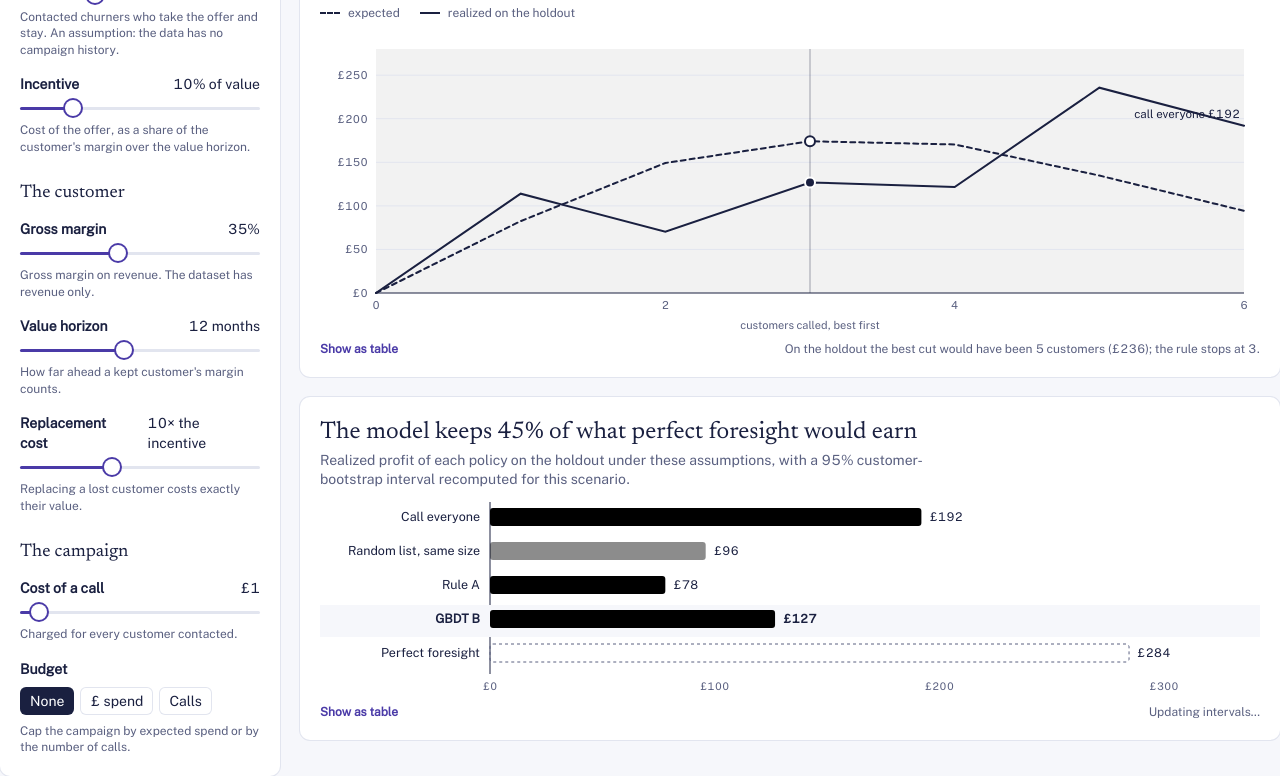
it: typing a budget keeps what was typed and settles out-of-range values on leaving the field
(page scrolled)
Click the radio button labelled "£ spend". click: {"x": 117, "y": 701}
box: [80,687,153,715]
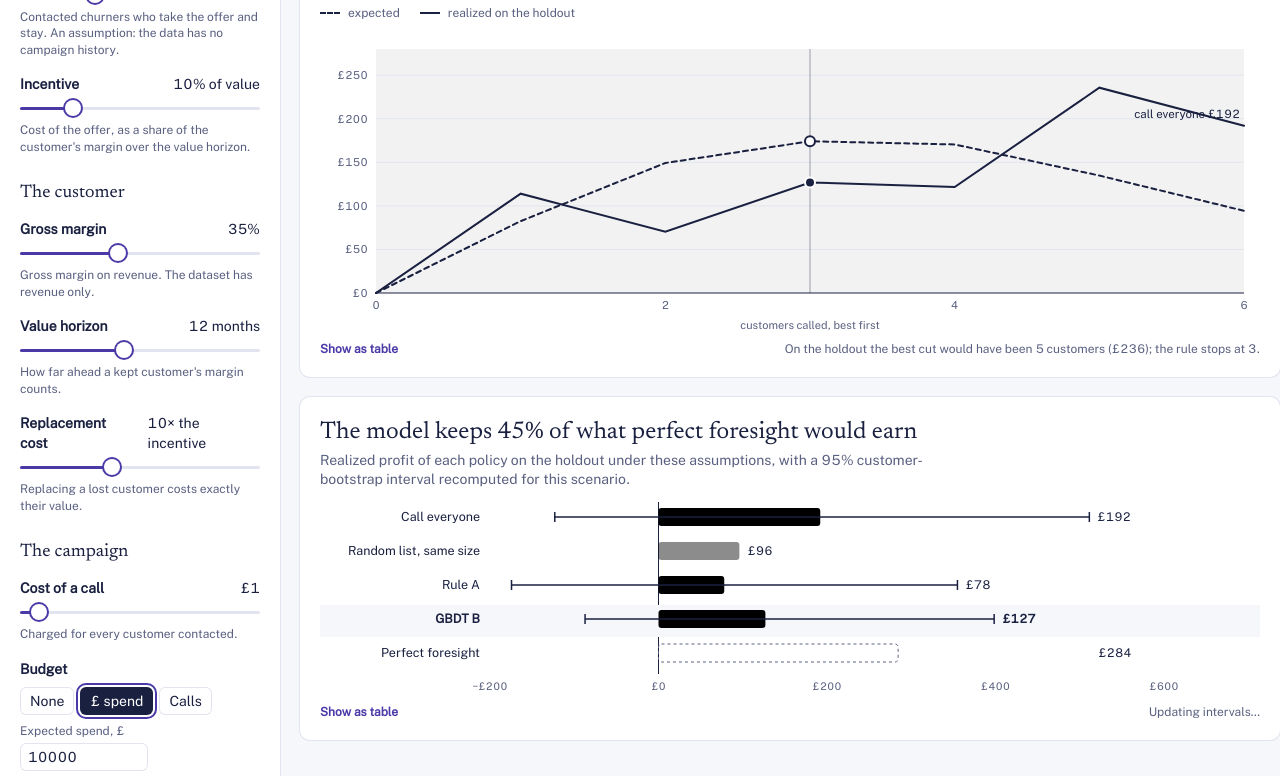
Replace the text in the number field labelled "Expected spend, £" with "2000". click: {"x": 84, "y": 757}
box: [20,743,148,771]
Replace the text in the number field labelled "Expected spend, £" with "50". click: {"x": 84, "y": 757}
box: [20,743,148,771]
(page scrolled)
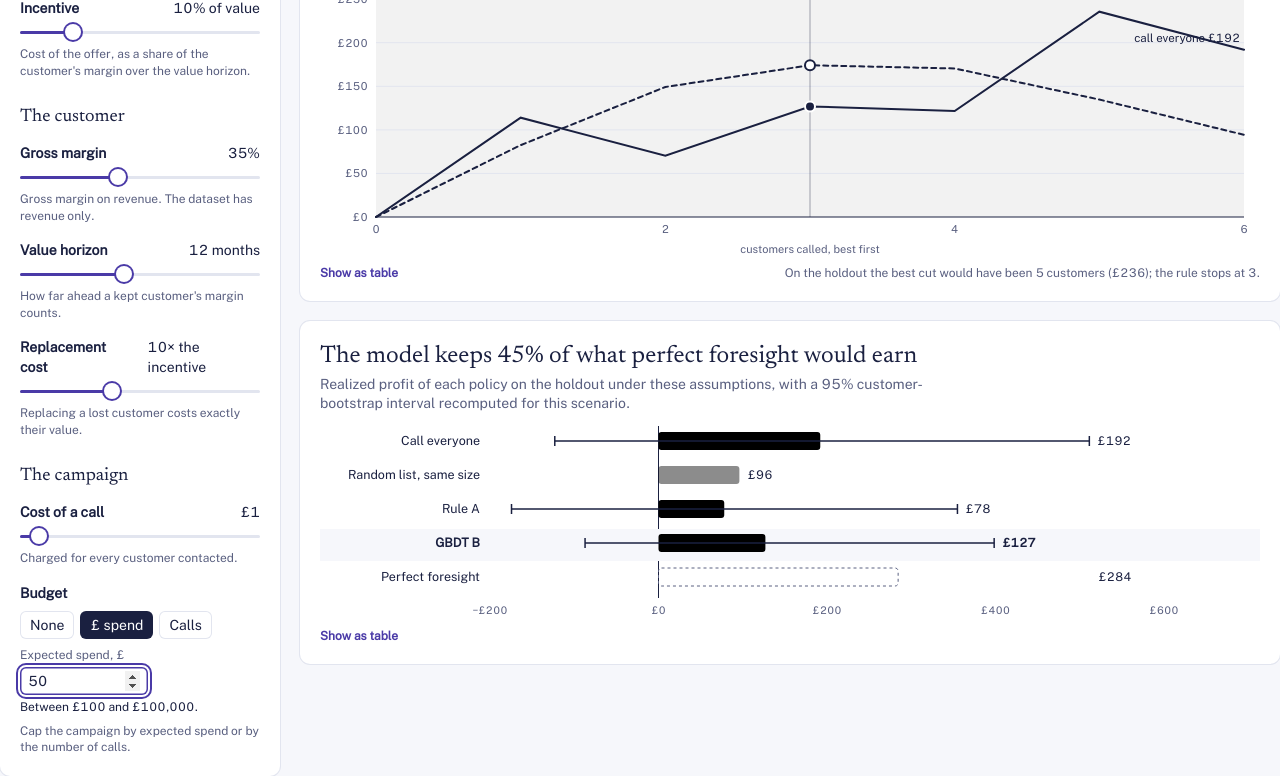
Check: the text "Between £100 and £100,000." is shown, box [20,700,198,714]
Press Tab
(page scrolled)
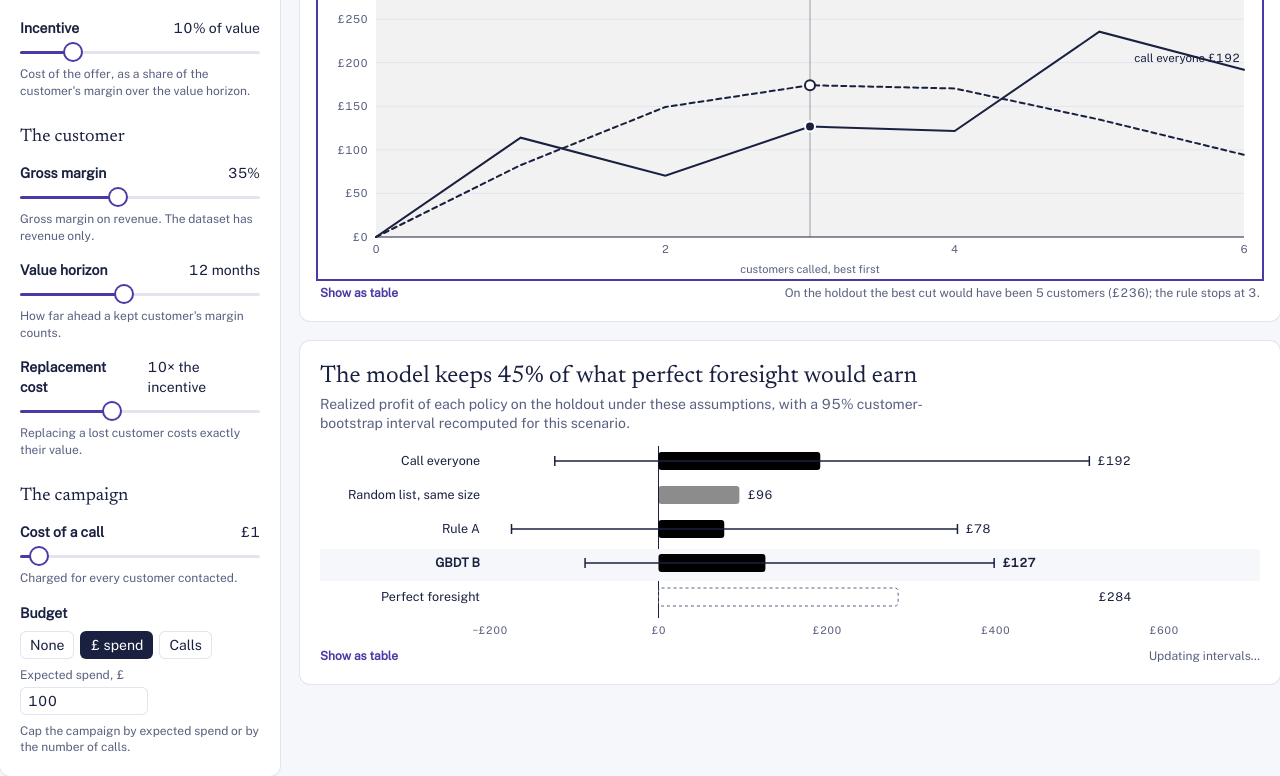
Check: the number field labelled "Expected spend, £" holds "100", box [20,687,148,715]
Click the radio button labelled "Calls". click: {"x": 186, "y": 645}
box: [159,631,212,659]
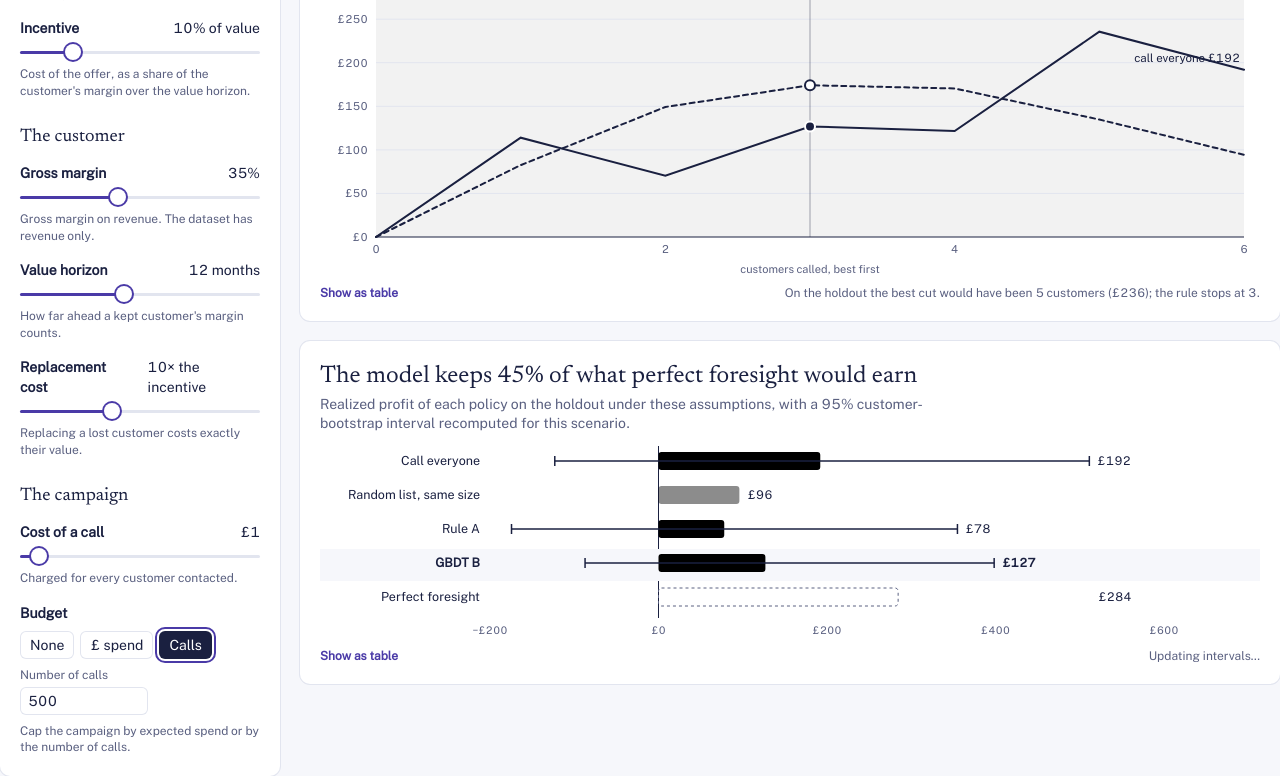
Replace the text in the number field labelled "Number of calls" with "2.5". click: {"x": 84, "y": 701}
box: [20,687,148,715]
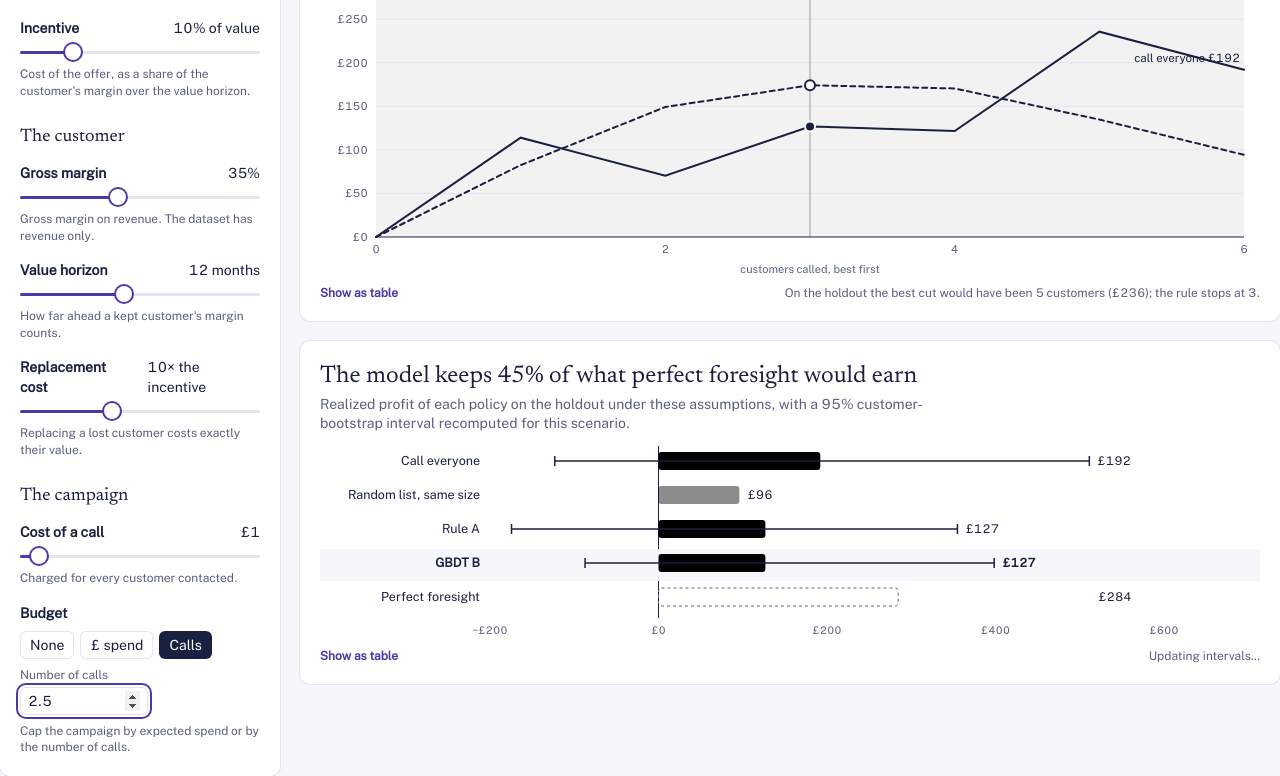
Press Tab
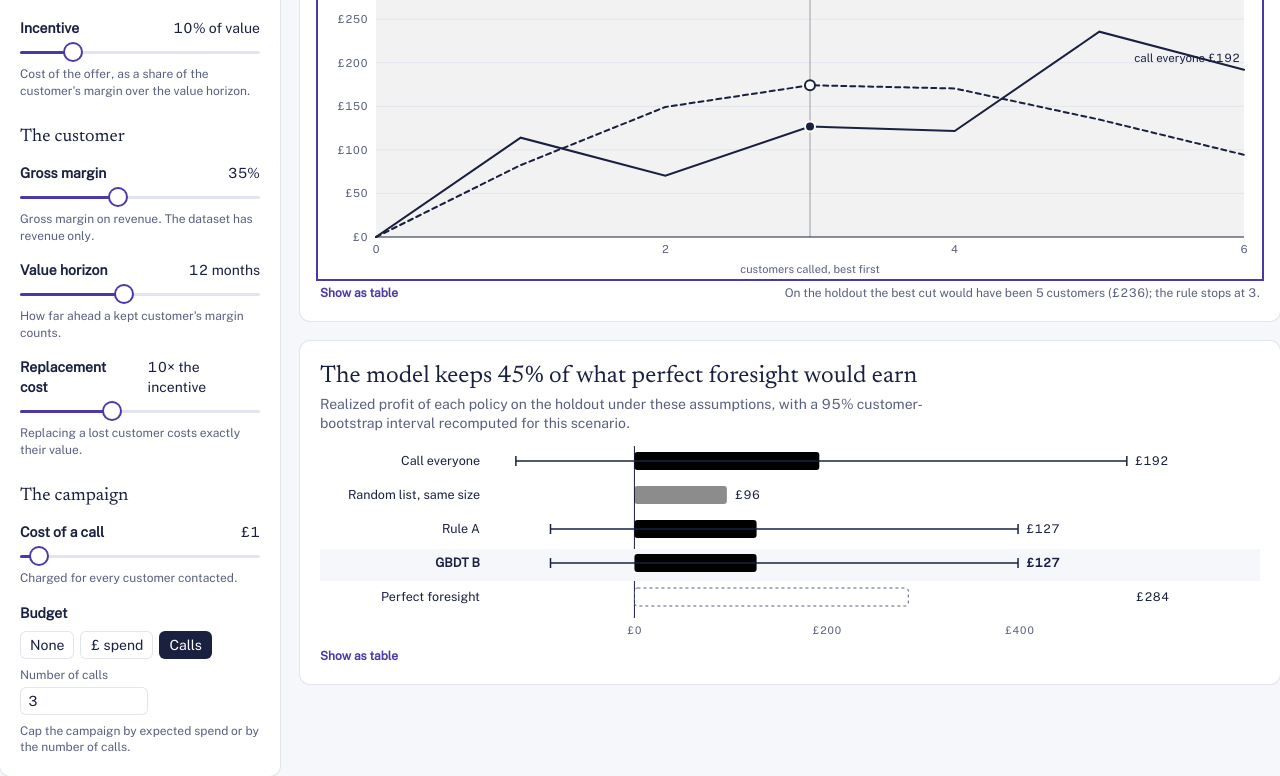
Check: the number field labelled "Number of calls" holds "3", box [20,687,148,715]
